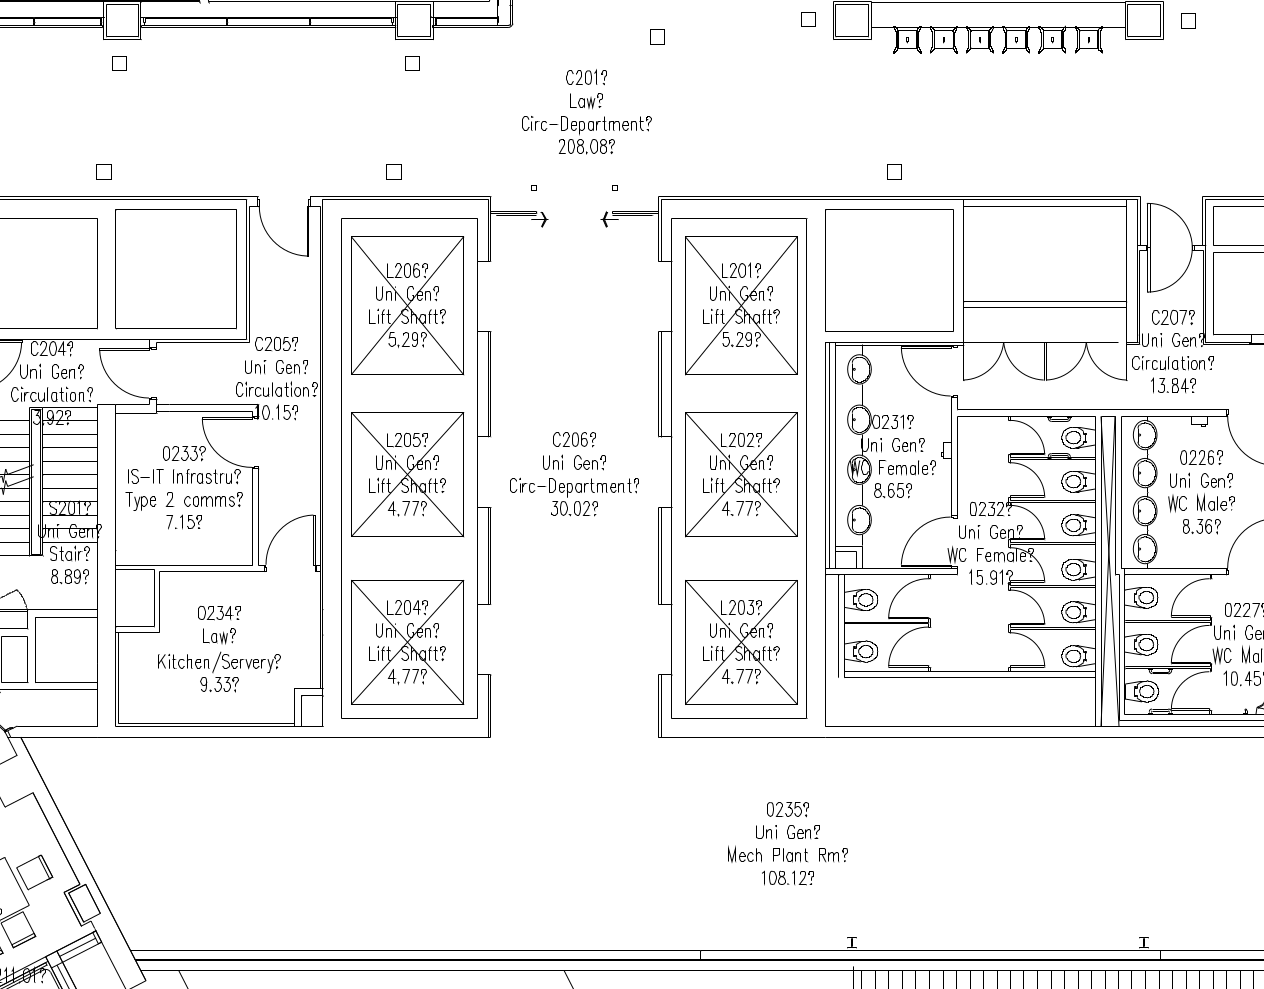door: (1045, 337, 1131, 397), (961, 337, 1046, 396), (1146, 199, 1196, 296), (888, 345, 959, 405), (256, 194, 313, 268), (260, 506, 316, 580), (892, 508, 956, 568), (86, 343, 150, 403), (192, 411, 256, 471), (883, 626, 934, 671), (1005, 628, 1056, 673), (1003, 583, 1054, 628), (884, 573, 935, 618), (1167, 575, 1218, 618), (1166, 668, 1217, 711), (1166, 623, 1216, 666), (1003, 545, 1053, 586), (1003, 502, 1053, 543), (1004, 460, 1054, 501), (1004, 417, 1054, 458)
